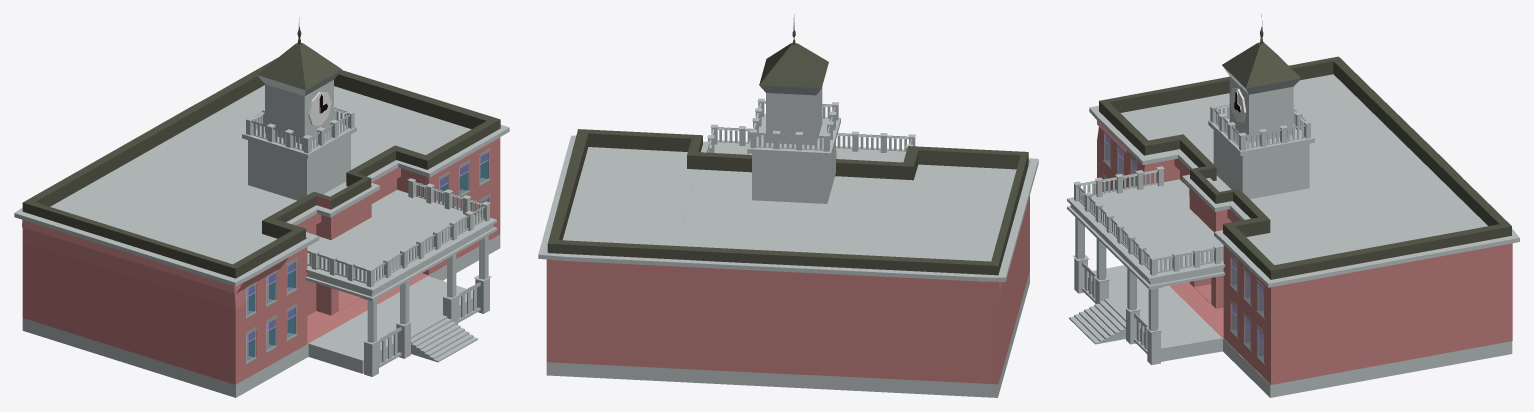
File: Town Hall.fbx
3 renders of one model, left to right at view 1: azimuth 30°, elevation 25°; view 2: azimuth 150°, elevation 25°; view 3: azimuth 270°, elevation 25°, orthographic. The views are drawn at different scales.
Parts seen in each view (by area): view 1: Plane.045, Plane.046, Plane.044, Plane.047, Plane.052, Plane.048, Plane.050, Plane.049, Plane.051, Plane.053; view 2: Plane.045, Plane.044, Plane.046, Plane.047, Plane.052; view 3: Plane.045, Plane.046, Plane.044, Plane.047, Plane.052, Plane.048, Plane.049, Plane.050, Plane.051, Plane.053.
Boxes of the visible parts, box(x1,y1,x2,y2) form: Plane.045: box(22, 137, 500, 384); Plane.046: box(14, 17, 509, 397); Plane.044: box(50, 85, 471, 264); Plane.047: box(22, 26, 500, 278); Plane.052: box(245, 105, 491, 376); Plane.048: box(246, 160, 488, 360); Plane.050: box(246, 151, 489, 362); Plane.049: box(246, 152, 488, 341); Plane.051: box(245, 148, 490, 365); Plane.053: box(308, 92, 331, 125); Plane.045: box(546, 150, 1029, 384); Plane.044: box(562, 147, 1016, 261); Plane.046: box(538, 14, 1038, 397); Plane.047: box(547, 29, 1028, 275); Plane.052: box(707, 98, 915, 152); Plane.045: box(1097, 121, 1512, 384); Plane.046: box(1067, 14, 1519, 397); Plane.044: box(1120, 74, 1487, 264); Plane.047: box(1099, 27, 1511, 279); Plane.052: box(1073, 104, 1311, 365); Plane.048: box(1104, 142, 1263, 360); Plane.049: box(1104, 134, 1263, 341); Plane.050: box(1104, 134, 1263, 361); Plane.051: box(1103, 131, 1264, 364); Plane.053: box(1230, 88, 1246, 122).
Size of the model in its own units: 2990 by 1795 by 2576.
